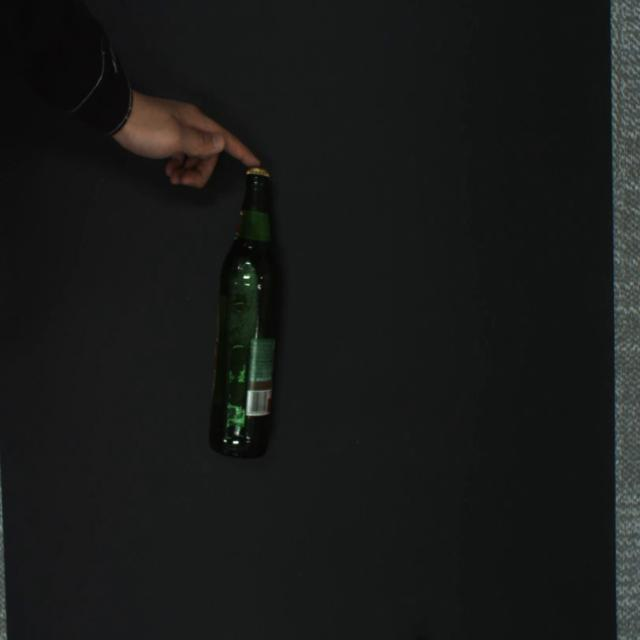beer-bottle: (209, 167, 280, 459)
